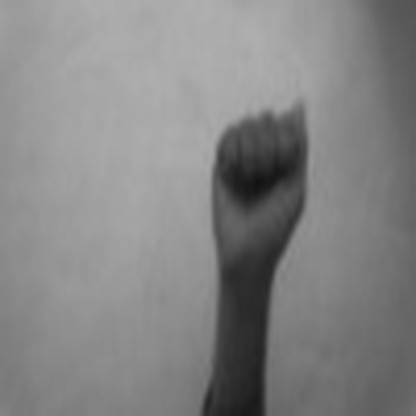a: (207, 90, 316, 273)
